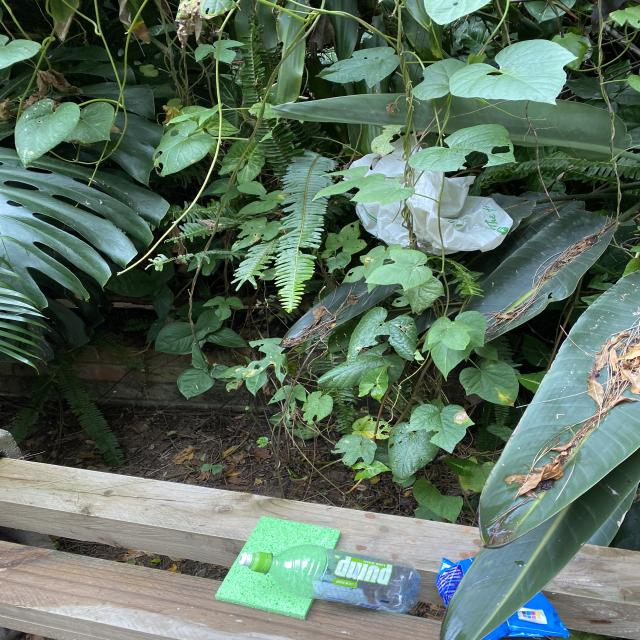bag: (345, 134, 513, 255), (482, 591, 572, 640), (436, 557, 476, 608)
bottle: (239, 546, 419, 614)
sponge: (216, 516, 342, 621)
